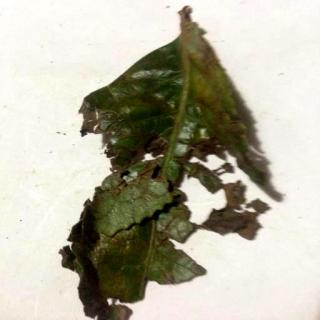Red Leaf Spot: (59, 6, 271, 320)
